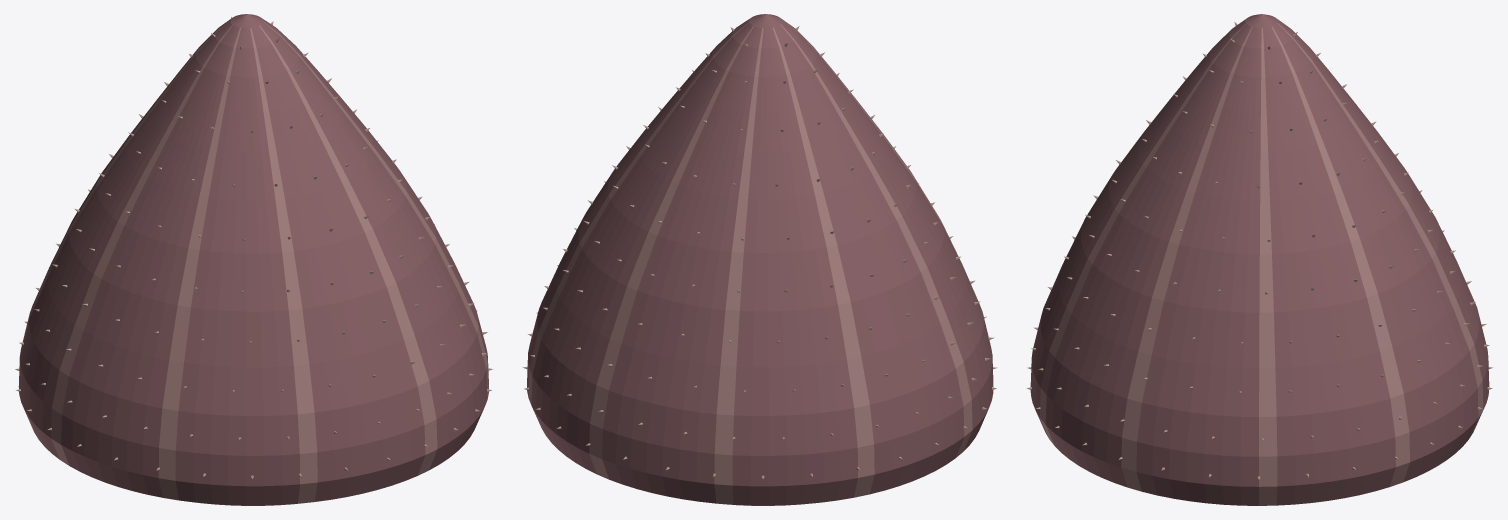
The picture shows the model from 3 angles, left to right: view 1: azimuth 30°, elevation 25°; view 2: azimuth 150°, elevation 25°; view 3: azimuth 270°, elevation 25°; orthographic projection.
Parts seen in each view (by area): view 1: living-covered-test, restrained-short-living-spines; view 2: living-covered-test, restrained-short-living-spines; view 3: living-covered-test, restrained-short-living-spines.
Boxes of the visible parts, left/top/right/bottom form: living-covered-test: left=18, top=14, right=488, bottom=505; restrained-short-living-spines: left=15, top=17, right=493, bottom=478; living-covered-test: left=527, top=14, right=993, bottom=505; restrained-short-living-spines: left=523, top=26, right=997, bottom=478; living-covered-test: left=1030, top=14, right=1489, bottom=505; restrained-short-living-spines: left=1026, top=22, right=1492, bottom=479.
Size of the model in its own units: 0.0422 by 0.04 by 0.0415.
